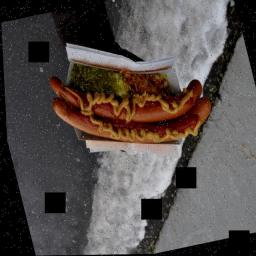hotdog: (42, 46, 216, 166)
